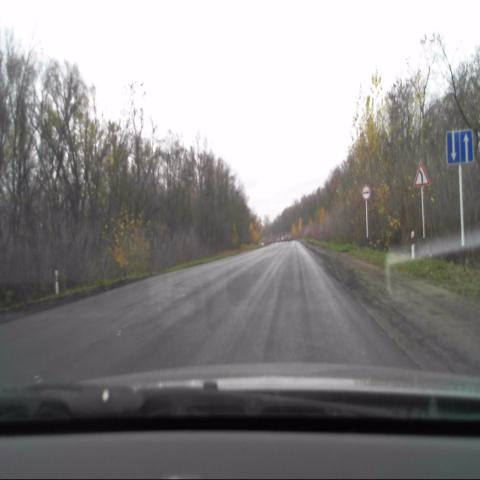1_11_1: (413, 163, 430, 185)
3_20: (360, 186, 370, 200)
5_15_7: (445, 130, 474, 166)
